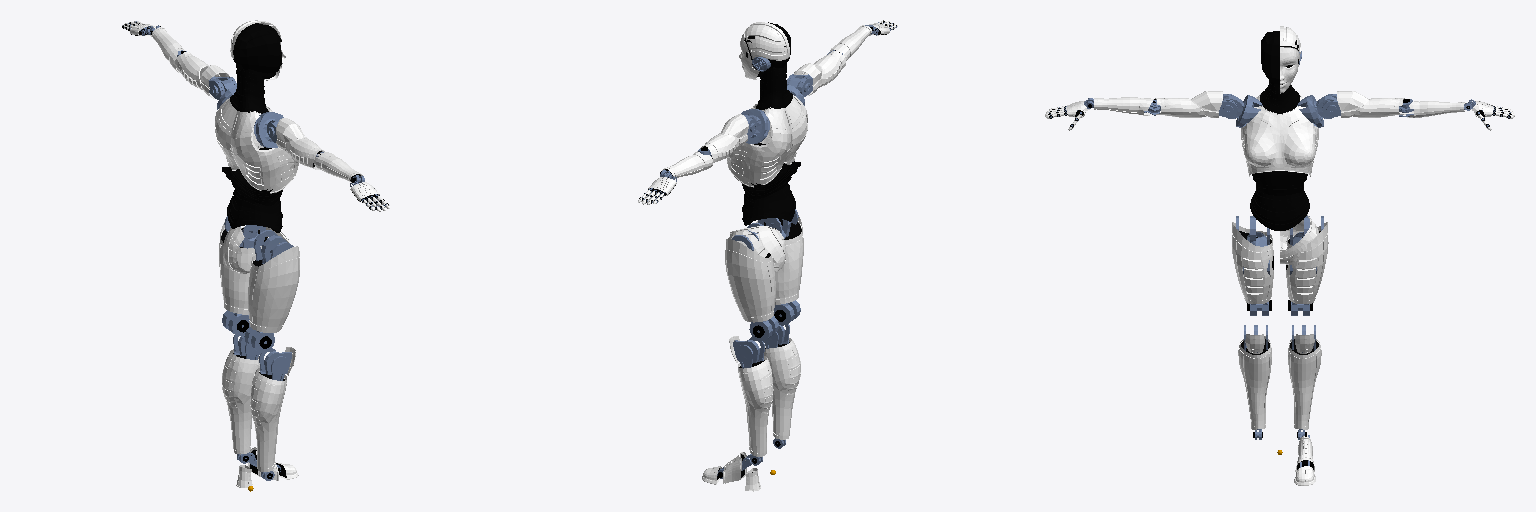
--- What the picture shows (computed from the rendered views, not written in the file) ---
The picture shows the robot from 3 angles, left to right: view 1: azimuth 30°, elevation 25°; view 2: azimuth 150°, elevation 25°; view 3: azimuth 270°, elevation 25°; orthographic projection.
Model humanMeshed with 90 links and 89 joints (89 continuous), rooted at base_link, posed every joint at zero.
Visible links, largest first — view 1: right_thigh_yaw, chest_yaw, right_knee_yaw, left_knee_yaw, left_thigh_yaw, head_yaw, lower_spine_yaw, left_shoulder_yaw, right_shoulder_yaw, neck_yaw, left_foot_yaw, hip_yaw (+4 smaller); view 2: left_thigh_yaw, chest_yaw, left_knee_yaw, right_knee_yaw, right_thigh_yaw, head_yaw, lower_spine_yaw, left_shoulder_yaw, right_shoulder_yaw, hip_yaw, left_foot_yaw, neck_yaw (+4 smaller); view 3: chest_yaw, lower_spine_yaw, right_thigh_yaw, left_thigh_yaw, right_knee_yaw, left_knee_yaw, head_yaw, left_shoulder_yaw, right_shoulder_yaw, hip_yaw, right_elbow_yaw, neck_yaw (+6 smaller).
Link boxes in pixels (x1,y1,x2,y2): right_thigh_yaw: [244, 230, 299, 352]; chest_yaw: [215, 98, 298, 193]; right_knee_yaw: [250, 347, 295, 480]; left_knee_yaw: [222, 335, 260, 463]; left_thigh_yaw: [219, 216, 268, 336]; head_yaw: [230, 20, 285, 80]; lower_spine_yaw: [222, 147, 282, 232]; left_shoulder_yaw: [175, 50, 236, 99]; right_shoulder_yaw: [267, 118, 324, 169]; neck_yaw: [230, 64, 268, 113]; left_foot_yaw: [236, 447, 298, 487]; hip_yaw: [223, 225, 288, 273]; left_thigh_yaw: [725, 223, 778, 341]; chest_yaw: [727, 95, 807, 187]; left_knee_yaw: [729, 336, 773, 465]; right_knee_yaw: [763, 324, 800, 448]; right_thigh_yaw: [756, 209, 803, 325]; head_yaw: [739, 22, 790, 79]; lower_spine_yaw: [742, 143, 800, 225]; left_shoulder_yaw: [698, 114, 756, 162]; right_shoulder_yaw: [787, 50, 845, 96]; hip_yaw: [729, 223, 786, 271]; left_foot_yaw: [702, 452, 760, 491]; neck_yaw: [756, 63, 792, 109]; chest_yaw: [1241, 94, 1318, 176]; lower_spine_yaw: [1250, 171, 1309, 230]; right_thigh_yaw: [1232, 216, 1273, 315]; left_thigh_yaw: [1286, 216, 1328, 315]; right_knee_yaw: [1238, 325, 1271, 439]; left_knee_yaw: [1288, 325, 1321, 439]; head_yaw: [1261, 26, 1301, 93]; left_shoulder_yaw: [1322, 91, 1412, 117]; right_shoulder_yaw: [1148, 91, 1237, 117]; hip_yaw: [1243, 214, 1318, 274]; right_elbow_yaw: [1087, 97, 1159, 115]; neck_yaw: [1260, 81, 1299, 113].
Bounding box of the posed robot: 0.3296 × 1.78 × 1.8 m (x, y, z).
Meshes: 19 distinct files referenced, 18 mesh visuals loaded (18 Collada DAE); not drawn: 1 (file found but could not be loaded).

The robot description file, URDF, robot "humanMeshed":
<?xml version="1.0"?>
<robot name="humanMeshed">

<link name="base_link">
    <visual>
      <geometry>
        <sphere radius="0.01"/>
      </geometry>
    </visual>
  </link>

<!--   HIP starts here  -->
  <link name="hip_roll"/>

  <joint name="odom" type="continuous">
    <parent link="base_link" />
    <child link="odom" />
    <origin xyz="0.05 0 0.90"/>
    <axis xyz="1.0 0 0"/>
  </joint>

  <link name="odom"/>

  <joint name="hip_roll" type="continuous">
    <parent link="odom" />
    <child link="hip_roll" />
    <origin xyz="0 0 0"/>
    <axis xyz="1.0 0 0"/>
  </joint>

  <link name="hip_pitch">
    
  </link>

  <joint name="hip_pitch" type="continuous">
    <parent link="hip_roll"/>
    <child link="hip_pitch"/>
    <origin xyz="0 0 0"/>
    <axis xyz="0 1.0 0"/>
  </joint>

  <link name="hip_yaw">
        <visual>
      <geometry>  
        <mesh filename="package://online_tempo/models/humanMeshed/meshes/pelvis.dae" scale="0.06 0.06 0.06"/>
     </geometry>
      <origin rpy="0 0 1.57075" xyz="0 0 -0.96"/>   
    </visual>
  </link>

  <joint name="hip_yaw" type="continuous">
    <parent link="hip_pitch"/>
    <child link="hip_yaw"/>
    <origin xyz="0 0 0"/>
    <axis xyz="0 0 1.0"/>
  </joint>

 <!--           HIP ENDS HERE        -->
 <!--      RIGHT THIGH STARTS HERE    -->
 <joint name="right_thigh_roll" type="continuous">
    <parent link="hip_yaw"/>
    <child link="right_thigh_roll"/>
    <origin xyz="-0.008278 -0.100432  0.042441  "/>
    <axis xyz="1.0 0 0"/>
 </joint>

 <link name="right_thigh_roll"/>

 <joint name="right_thigh_pitch" type="continuous">
    <parent link="right_thigh_roll"/>
    <child link="right_thigh_pitch"/>
    <origin xyz="0 0 0"/>
    <axis xyz="0 1.0 0"/>
 </joint>

 <link name="right_thigh_pitch"/>

 <joint name="right_thigh_yaw" type="continuous">
    <parent link="right_thigh_pitch"/>
    <child link="right_thigh_yaw"/>
    <origin xyz="0 0 0"/>
    <axis xyz="0 0 1.0"/>
 </joint>

<link name="right_thigh_yaw">
  <visual>
    <geometry>
      <mesh filename="package://online_tempo/models/humanMeshed/meshes/rightThigh.dae" scale="0.06 0.06 0.06"/>
    </geometry>      
    <origin rpy="0 0 1.57075" xyz="0 0.0875 -0.8725"/>  
  </visual>
</link>
<!--       RIGHT THIGH ENDS HERE       -->
<!--       RIGHT KNEE STARTS HERE      -->
<joint name="right_knee_roll" type="continuous">
  <parent link="right_thigh_yaw"/>
  <child link="right_knee_roll"/>
  <origin xyz="0 0.008037 -0.436842"/>
  <axis xyz="1.0 0 0"/>
</joint>

<link name="right_knee_roll"/>

<joint name="right_knee_pitch" type="continuous">
  <parent link="right_knee_roll"/>
  <child link="right_knee_pitch"/>
  <origin xyz="0 0 0"/>
  <axis xyz="0 1.0 0"/>
</joint>

<link name="right_knee_pitch"/>

<joint name="right_knee_yaw" type="continuous">
  <parent link="right_knee_pitch"/>
  <child link="right_knee_yaw"/>
  <origin xyz="0 0 0"/>
  <axis xyz="0 0 1.0"/>
</joint>

<link name="right_knee_yaw">
  <visual>
    <geometry>
      <mesh filename="package://online_tempo/models/humanMeshed/meshes/rightShin.dae" scale="0.06 0.06 0.06"/>
    </geometry>      
    <origin rpy="0 0 1.57075" xyz="0.05 0.0675 -0.53"/>    
  </visual>
</link>
<!--         RIGHT KNEE ENDS HERE   -->
<!--         RIGHT FOOT STARTS HERE -->
<joint name="right_foot_roll" type="continuous">
  <parent link="right_knee_yaw"/>
  <child link="right_foot_roll"/>
  <origin xyz="0.0000 0.0000 -0.428949  "/>
  <axis xyz="1.0 0 0"/>
</joint> 

<link name="right_foot_roll"/>

<joint name="right_foot_pitch" type="continuous">
  <parent link="right_foot_roll"/>
  <child link="right_foot_pitch"/>
  <origin xyz="0 0 0"/>
  <axis xyz="0 1.0 0"/>
</joint> 

<link name="right_foot_pitch"/>

<joint name="right_foot_yaw" type="continuous">
  <parent link="right_foot_pitch"/>
  <child link="right_foot_yaw"/>
  <origin xyz="0 0 0"/>
  <axis xyz="0 0 1.0"/>
</joint> 

<link name="right_foot_yaw">
  <visual>
    <geometry>
      <mesh filename="package://online_tempo/models/humanMeshed/meshes/rightFoot.dae" scale="0.06 0.06 0.06"/>
    </geometry>
    <origin rpy="0 0 1.57075" xyz="0.07375 0.055 -0.1075"/>    
   </visual>
 </link>

<!--   RIGHT FOOT ENDS HERE   -->
<joint name="right_toe_roll" type="continuous">
  <parent link="right_foot_yaw"/>
  <child link="right_toe_roll"/>
  <origin xyz="0.098587 0.0000 -0.047145 "/>
  <axis xyz="1.0 0 0"/>
</joint>

<link name="right_toe_roll"/>

<joint name="right_toe_pitch" type="continuous">
  <parent link="right_toe_roll"/>
  <child link="right_toe_pitch"/>
  <origin xyz="0 0 0"/>
  <axis xyz="0 1.0 0"/>
</joint>

<link name="right_toe_pitch"/>

<joint name="right_toe_yaw" type="continuous">
  <parent link="right_toe_pitch"/>
  <child link="right_toe_yaw"/>
  <origin xyz="0 0 0"/>
  <axis xyz="0 0 1.0"/>
</joint>

<link name="right_toe_yaw"/>


<!--   LEFT THIGH STARTS HERE -->
 <joint name="left_thigh_roll" type="continuous">
    <parent link="hip_yaw"/>
    <child link="left_thigh_roll"/>
    
    <origin xyz="-0.008278 0.100433 0.042438  "/>
    <axis xyz="1.0 0 0"/>
 </joint>



 <link name="left_thigh_roll"/>

 <joint name="left_thigh_pitch" type="continuous">
    <parent link="left_thigh_roll"/>
    <child link="left_thigh_pitch"/>
    <origin xyz="0 0 0"/>
    <axis xyz="0 1.0 0"/>
 </joint>

 <link name="left_thigh_pitch"/>

 <joint name="left_thigh_yaw" type="continuous">
    <parent link="left_thigh_pitch"/>
    <child link="left_thigh_yaw"/>
    <origin xyz="0 0 0"/>
    <axis xyz="0 0 1.0"/>
 </joint>

<link name="left_thigh_yaw">
  <visual>
    <geometry>
      <mesh filename="package://online_tempo/models/humanMeshed/meshes/leftThigh.dae" scale="0.06 0.06 0.06"/>
    </geometry>      
    <origin rpy="0 0 1.57075" xyz="0 -0.0875 -0.8725"/>    
  </visual>
</link>
<!--     LEFT THIGH ENDS HERE -->
<!--       LEFT KNEE STARTS HERE      -->
<joint name="left_knee_roll" type="continuous">
  <parent link="left_thigh_yaw"/>
  <child link="left_knee_roll"/>
  <origin xyz="0 -0.008037 -0.436838 "/>

  <axis xyz="1.0 0 0"/>
</joint>

<link name="left_knee_roll"/>

<joint name="left_knee_pitch" type="continuous">
  <parent link="left_knee_roll"/>
  <child link="left_knee_pitch"/>
  <origin xyz="0 0 0"/>
  <axis xyz="0 1.0 0"/>
</joint>

<link name="left_knee_pitch"/>

<joint name="left_knee_yaw" type="continuous">
  <parent link="left_knee_pitch"/>
  <child link="left_knee_yaw"/>
  <origin xyz="0 0 0"/>
  <axis xyz="0 0 1.0"/>
</joint>

<link name="left_knee_yaw">
  <visual>
    <geometry>
      <mesh filename="package://online_tempo/models/humanMeshed/meshes/leftShin.dae" scale="0.06 0.06 0.06"/>
    </geometry>      
    <origin rpy="0 0 1.57075" xyz="0.05 -0.0675 -0.53"/>   
  </visual>
</link>
<!--         left KNEE ENDS HERE   -->
<!--         left FOOT STARTS HERE -->
<joint name="left_foot_roll" type="continuous">
  <parent link="left_knee_yaw"/>
  <child link="left_foot_roll"/>
  
  <origin xyz="0 0.0000 -0.428949  "/>
  <axis xyz="1.0 0 0"/>
</joint> 

<link name="left_foot_roll"/>

<joint name="left_foot_pitch" type="continuous">
  <parent link="left_foot_roll"/>
  <child link="left_foot_pitch"/>
  <origin xyz="0 0 0"/>
  <axis xyz="0 1.0 0"/>
</joint> 

<link name="left_foot_pitch"/>

<joint name="left_foot_yaw" type="continuous">
  <parent link="left_foot_pitch"/>
  <child link="left_foot_yaw"/>
  <origin xyz="0 0 0"/>
  <axis xyz="0 0 1.0"/>
</joint> 

<link name="left_foot_yaw">
  <visual>
    <geometry>
      <mesh filename="package://online_tempo/models/humanMeshed/meshes/leftFoot.dae" scale="0.06 0.06 0.06"/>
    </geometry>
    <origin rpy="0 0 1.57075" xyz="0.07375 -0.055 -0.1075"/>    
   </visual>
</link>
<!--   left FOOT ENDS HERE   -->

<joint name="left_toe_roll" type="continuous">
  <parent link="left_foot_yaw"/>
  <child link="left_toe_roll"/>
  <origin xyz="0.098587 0.0000 -0.047145 "/>
  <axis xyz="1.0 0 0"/>
</joint>

<link name="left_toe_roll"/>

<joint name="left_toe_pitch" type="continuous">
  <parent link="left_toe_roll"/>
  <child link="left_toe_pitch"/>
  <origin xyz="0 0 0"/>
  <axis xyz="0 1.0 0"/>
</joint>

<link name="left_toe_pitch"/>

<joint name="left_toe_yaw" type="continuous">
  <parent link="left_toe_pitch"/>
  <child link="left_toe_yaw"/>
  <origin xyz="0 0 0"/>
  <axis xyz="0 0 1.0"/>
</joint>

<link name="left_toe_yaw"/>



<!--   lower_spine STARTS HERE   -->
<joint name="lower_spine_roll" type="continuous">
  <parent link="hip_yaw"/>
  <child link="lower_spine_roll"/>
  <origin xyz="-0.050805 0.0000 0.093885  "/>
  <axis xyz="1.0 0 0"/>
</joint>

<link name="lower_spine_roll"/>

<joint name="lower_spine_pitch" type="continuous">
  <parent link="lower_spine_roll"/>
  <child link="lower_spine_pitch"/>
  <origin xyz="0 0 0"/>
  <axis xyz="0 1.0 0"/>
</joint>

<link name="lower_spine_pitch"/>

<joint name="lower_spine_yaw" type="continuous">
  <parent link="lower_spine_pitch"/>
  <child link="lower_spine_yaw"/>
  <origin xyz="0 0 0"/>
  <axis xyz="0 0 1.0"/>
</joint>


<link name="lower_spine_yaw">
  <visual>
    <geometry>
              <mesh filename="package://online_tempo/models/humanMeshed/meshes/abdomen.dae" scale="0.06 0.06 0.06"/>
    </geometry>
    <origin rpy="0 0 1.57075" xyz="-0.005 0 -1"/>    
  </visual>
</link>

<!--  lower_spine ENDS HERE     -->
<!--  middle_spine Starts here  -->
<joint name="middle_spine_roll" type="continuous">
  <parent link="lower_spine_yaw"/>
  <child link="middle_spine_roll"/>
  <origin xyz="0.004476 0.0000 0.085677  "/>
  <axis xyz="1.0 0 0"/>
</joint>

<link name="middle_spine_roll"/>

<joint name="middle_spine_pitch" type="continuous">
  <parent link="middle_spine_roll"/>
  <child link="middle_spine_pitch"/>
  <origin xyz="0 0 0"/>
  <axis xyz="0 1.0 0"/>
</joint>

<link name="middle_spine_pitch"/>

<joint name="middle_spine_yaw" type="continuous">
  <parent link="middle_spine_pitch"/>
  <child link="middle_spine_yaw"/>
  <origin xyz="0 0 0"/>
  <axis xyz="0 0 1.0"/>
</joint>

<link name="middle_spine_yaw">
  <!--
  <visual>
    <geometry>
        <box size="0.10 0.25 0.08"/>
    </geometry>
    <origin rpy="0 0 0" xyz="0 0 0.04"/>    
  </visual>
-->
</link>

<!--  middle_spine Ends here    -->
<!--  CHEST STARTS HERE     -->
<joint name="chest_roll" type="continuous">
  <parent link="middle_spine_yaw"/>
  <child link="chest_roll"/>
  <origin xyz="-0.023598 0.0000 0.106015 "/>
  <axis xyz="1.0 0 0"/>
</joint>

<link name="chest_roll"/>

<joint name="chest_pitch" type="continuous">
  <parent link="chest_roll"/>
  <child link="chest_pitch"/>
  <origin xyz="0 0 0"/>
  <axis xyz="0 1.0 0"/>
</joint>

<link name="chest_pitch"/>

<joint name="chest_yaw" type="continuous">
  <parent link="chest_pitch"/>
  <child link="chest_yaw"/>
  <origin xyz="0 0 0"/>
  <axis xyz="0 0 1.0"/>
</joint>

<link name="chest_yaw">
  <visual>
    <geometry>
      <mesh filename="package://online_tempo/models/humanMeshed/meshes/chest.dae" scale="0.06 0.06 0.06"/>
    </geometry>
    <origin rpy="0 0 1.57075" xyz="0.05 0 -1.2"/>    
  </visual>
</link>
<!--     Chest ends here            -->
<!--     left clavicle starts here  -->
<joint name="left_clavicle_roll" type="continuous">
  <parent link="chest_yaw"/>
  <child link="left_clavicle_roll"/>
  <origin xyz="0.078988 0.024119 0.230552 "/>
  <axis xyz="1.0 0 0"/>
</joint>

<link name="left_clavicle_roll"/>

<joint name="left_clavicle_pitch" type="continuous">
  <parent link="left_clavicle_roll"/>
  <child link="left_clavicle_pitch"/>
  <origin xyz="0 0 0"/>
  <axis xyz="0 1.0 0"/>
</joint>

<link name="left_clavicle_pitch"/>

<joint name="left_clavicle_yaw" type="continuous">
  <parent link="left_clavicle_pitch"/>
  <child link="left_clavicle_yaw"/>
  <origin xyz="0 0 0"/>
  <axis xyz="0 0 1.0"/>
</joint>

<link name="left_clavicle_yaw">
  <visual>
    <geometry>
    <mesh filename="package://online_tempo/models/humanMeshed/meshes/leftClavicle.dae" scale="0.06 0.06 0.06"/>
    </geometry>
    <origin rpy="0 0 1.57075" xyz="-0.01 0 -1.4"/>
  </visual>
</link>
<!-- left clavicle ends here   -->
<!-- left shoulder starts here -->
<joint name="left_shoulder_roll" type="continuous">
  <parent link="left_clavicle_yaw"/>
  <child link="left_shoulder_roll"/>
  <origin xyz="-0.053510 0.140907  0.033069  "/>
  <axis xyz="1.0 0 0"/>
</joint>

<link name="left_shoulder_roll"/>

<joint name="left_shoulder_pitch" type="continuous">
  <parent link="left_shoulder_roll"/>
  <child link="left_shoulder_pitch"/>
  <origin xyz="0 0 0"/>
  <axis xyz="0 1.0 0"/>
</joint>

<link name="left_shoulder_pitch"/>

<joint name="left_shoulder_yaw" type="continuous">
  <parent link="left_shoulder_pitch"/>
  <child link="left_shoulder_yaw"/>
  <origin xyz="0 0 0"/>
  <axis xyz="0 0 1.0"/>
</joint>

<link name="left_shoulder_yaw">
  <visual>
    <geometry>
      <mesh filename="package://online_tempo/models/humanMeshed/meshes/leftBicep.dae" scale="0.07 0.06 0.06"/> 
    </geometry>
    <!--
    <origin rpy="0 0 1.57075 " xyz="0.04 -0.16 -1.42" />
    -->
    <origin rpy="0 -0.356 1.57075 " xyz="0.045 0.35 -1.40" />
  </visual>
</link>
<!-- left shoulder ends here -->
<!-- left elbow starts here -->
<joint name="left_elbow_roll" type="continuous">
  <parent link="left_shoulder_yaw"/>
  <child link="left_elbow_roll"/>
  <origin xyz="-0.002594 0.299313  -0.001061 "/>
  <axis xyz="1.0 0 0"/>
</joint>

<link name="left_elbow_roll"/>

<joint name="left_elbow_pitch" type="continuous">
  <parent link="left_elbow_roll"/>
  <child link="left_elbow_pitch"/>
  <origin xyz="0 0 0"/>
  <axis xyz="0 1.0 0"/>
</joint>

<link name="left_elbow_pitch"/>

<joint name="left_elbow_yaw" type="continuous">
  <parent link="left_elbow_pitch"/>
  <child link="left_elbow_yaw"/>
  <origin xyz="0 0 0"/>
  <axis xyz="0 0 1.0"/>
</joint>

<link name="left_elbow_yaw">
  <visual>
    <geometry>
      <mesh filename="package://online_tempo/models/humanMeshed/meshes/leftForearm.dae" scale="0.062 0.06 0.06"/> 
    </geometry>
    <!--
    <origin rpy="0 0 1.57075 " xyz="0.04 -0.4 -1.322" />
    -->
    <origin rpy="-0.27 -0.20 1.74 " xyz="0.42 -0.07 -1.336" />

  </visual>
</link>
<!-- left elbow ends here   -->
<!-- left hand starts here  -->
<joint name="left_hand_roll" type="continuous">
  <parent link="left_elbow_yaw"/>
  <child link="left_hand_roll"/>
  <origin xyz="-0.001496 0.249691  0.000724  "/>
  <axis xyz="1.0 0 0"/>
</joint>

<link name="left_hand_roll"/>

<joint name="left_hand_pitch" type="continuous">
  <parent link="left_hand_roll"/>
  <child link="left_hand_pitch"/>
  <origin xyz="0 0 0"/>
  <axis xyz="0 1.0 0"/>
</joint>

<link name="left_hand_pitch"/>

<joint name="left_hand_yaw" type="continuous">
  <parent link="left_hand_pitch"/>
  <child link="left_hand_yaw"/>
  <origin xyz="0 0 0"/>
  <axis xyz="0 0 1.0"/>
</joint>

<link name="left_hand_yaw">
  <visual>
    <geometry>
      <mesh filename="package://online_tempo/models/humanMeshed/meshes/leftHand.dae" scale="0.06 0.06 0.06"/> 
    </geometry>
    <origin rpy="0 0 1.57075 " xyz="-0.0075 -0.61 -1.28" />
  </visual>
</link>
<!-- left hand ends here    -->

<joint name="right_clavicle_roll" type="continuous">
  <parent link="chest_yaw"/>
  <child link="right_clavicle_roll"/>
  <origin xyz="0.078988 -0.024119  0.230552 "/>
  <axis xyz="1.0 0 0"/>
</joint>

<link name="right_clavicle_roll"/>

<joint name="right_clavicle_pitch" type="continuous">
  <parent link="right_clavicle_roll"/>
  <child link="right_clavicle_pitch"/>
  <origin xyz="0 0 0"/>
  <axis xyz="0 1.0 0"/>
</joint>

<link name="right_clavicle_pitch"/>

<joint name="right_clavicle_yaw" type="continuous">
  <parent link="right_clavicle_pitch"/>
  <child link="right_clavicle_yaw"/>
  <origin xyz="0 0 0"/>
  <axis xyz="0 0 1.0"/>
</joint>

<link name="right_clavicle_yaw">
  <visual>
    <geometry>
    <mesh filename="package://online_tempo/models/humanMeshed/meshes/rightClavicle.dae" scale="0.06 0.06 0.06"/>
    </geometry>
    <origin rpy="0 0 1.57075" xyz="-0.01 0 -1.4"/>
  </visual>
</link>
<!-- right clavicle ends here   -->
<!-- right shoulder starts here -->
<joint name="right_shoulder_roll" type="continuous">
  <parent link="right_clavicle_yaw"/>
  <child link="right_shoulder_roll"/>
  <origin xyz="-0.053519 -0.140932 0.033075  "/>
  <axis xyz="1.0 0 0"/>
</joint>

<link name="right_shoulder_roll"/>

<joint name="right_shoulder_pitch" type="continuous">
  <parent link="right_shoulder_roll"/>
  <child link="right_shoulder_pitch"/>
  <origin xyz="0 0 0"/>
  <axis xyz="0 1.0 0"/>
</joint>

<link name="right_shoulder_pitch"/>

<joint name="right_shoulder_yaw" type="continuous">
  <parent link="right_shoulder_pitch"/>
  <child link="right_shoulder_yaw"/>
  <origin xyz="0 0 0"/>
  <axis xyz="0 0 1.0"/>
</joint>

<link name="right_shoulder_yaw">
  <visual>
    <geometry>
      <mesh filename="package://online_tempo/models/humanMeshed/meshes/rightBicep.dae" scale="0.07 0.06 0.06"/> 
    </geometry>
    <!--
    <origin rpy="0 0  1.57075 " xyz="0.045 0.165 -1.42" />
    -->
    <origin rpy="0 0.356 1.57075 " xyz="0.045 -0.35 -1.40" />
    <!--
    -->
  </visual>
</link>
<!-- right shoulder ends here -->
<!-- right elbow starts here -->
<joint name="right_elbow_roll" type="continuous">
  <parent link="right_shoulder_yaw"/>
  <child link="right_elbow_roll"/>
  <origin xyz="-0.002594 -0.299313 -0.001061 "/>
  <axis xyz="1.0 0 0"/>
</joint>

<link name="right_elbow_roll"/>

<joint name="right_elbow_pitch" type="continuous">
  <parent link="right_elbow_roll"/>
  <child link="right_elbow_pitch"/>
  <origin xyz="0 0 0"/>
  <axis xyz="0 1.0 0"/>
</joint>

<link name="right_elbow_pitch"/>

<joint name="right_elbow_yaw" type="continuous">
  <parent link="right_elbow_pitch"/>
  <child link="right_elbow_yaw"/>
  <origin xyz="0 0 0"/>
  <axis xyz="0 0 1.0"/>
</joint>

<link name="right_elbow_yaw">
  <visual>
    <geometry>
      <mesh filename="package://online_tempo/models/humanMeshed/meshes/rightForearm.dae" scale="0.062 0.06 0.06"/> 
    </geometry>
    <origin rpy="0.27 0.30 1.40 " xyz="-0.29 0.05 -1.352" />
  </visual>
</link>
<!-- right elbow ends here   -->
<!-- right hand starts here  -->
<joint name="right_hand_roll" type="continuous">
  <parent link="right_elbow_yaw"/>
  <child link="right_hand_roll"/>
  <origin xyz="-0.001496 -0.249691 0.000724  "/>
  <axis xyz="1.0 0 0"/>
</joint>

<link name="right_hand_roll"/>

<joint name="right_hand_pitch" type="continuous">
  <parent link="right_hand_roll"/>
  <child link="right_hand_pitch"/>
  <origin xyz="0 0 0"/>
  <axis xyz="0 1.0 0"/>
</joint>

<link name="right_hand_pitch"/>

<joint name="right_hand_yaw" type="continuous">
  <parent link="right_hand_pitch"/>
  <child link="right_hand_yaw"/>
  <origin xyz="0 0 0"/>
  <axis xyz="0 0 1.0"/>
</joint>

<link name="right_hand_yaw">
  <visual>
    <geometry>
      <mesh filename="package://online_tempo/models/humanMeshed/meshes/rightHand.dae" scale="0.06 0.06 0.06"/> 
    </geometry>
    <origin rpy="0 0 1.57075 " xyz="-0.0075 0.61 -1.28" />
  </visual>
</link>
<!-- right hand ends here    -->

<!-- neck starts here   -->
<joint name="neck_roll" type="continuous">
  <parent link="chest_yaw"/>
  <child link="neck_roll"/>
  <origin xyz="0 0 0.25"/>
  <axis xyz="1.0 0 0"/>
</joint>

<link name="neck_roll"/>

<joint name="neck_pitch" type="continuous">
  <parent link="neck_roll"/>
  <child link="neck_pitch"/>
  <origin xyz="0 0 0"/>
  <axis xyz="0 1.0 0"/>
</joint>

<link name="neck_pitch"/>

<joint name="neck_yaw" type="continuous">
  <parent link="neck_pitch"/>
  <child link="neck_yaw"/>
  <origin xyz="0 0 0"/>
  <axis xyz="0 0 1.0"/>
</joint>

<link name="neck_yaw">
  <visual>
    <geometry>
      <mesh filename="package://online_tempo/models/humanMeshed/meshes/neck.dae" scale="0.06 0.06 0.06"/> 
    </geometry>
    <origin rpy="0 0 1.57075 " xyz="0.0425 0 -1.45" />
  </visual>
</link>
<!-- neck ends here -->
<!-- head starts here -->
<joint name="head_roll" type="continuous">
  <parent link="neck_yaw"/>
  <child link="head_roll"/>
  <origin xyz="0 0 0.10"/>
  <axis xyz="1.0 0 0"/>
</joint>

<link name="head_roll"/>

<joint name="head_pitch" type="continuous">
  <parent link="head_roll"/>
  <child link="head_pitch"/>
  <origin xyz="0 0 0"/>
  <axis xyz="0 1.0 0"/>
</joint>

<link name="head_pitch"/>

<joint name="head_yaw" type="continuous">
  <parent link="head_pitch"/>
  <child link="head_yaw"/>
  <origin xyz="0 0 0"/>
  <axis xyz="0 0 1.0"/>
</joint>

<link name="head_yaw">
  <visual>
    <geometry>
      <mesh filename="package://online_tempo/models/humanMeshed/meshes/head.dae" scale="0.06 0.06 0.06"/> 
    </geometry>
    <origin rpy="0 0 1.57075 " xyz="0.0425 0 -1.53" />
  </visual>
</link>





<link name="hip">
    
  </link>

  <link name="lower_spine"/>
  <joint name="hip_to_lower_spine" type="continuous">
    <parent link="hip"/>
    <child link="lower_spine"/>
  </joint> 

  <link name="middle_spine"/>
  <joint name="lower_spine_to_middle_spine" type="continuous">
    <parent link="lower_spine"/>
    <child link="middle_spine"/>
  </joint> 

  <link name="chest"/>  
  <joint name="middle_spine_to_chest" type="continuous">
    <parent link="middle_spine"/>
    <child link="chest"/>
  </joint> 

  <link name="neck"/>  
  <joint name="chest_to_neck" type="continuous">
    <parent link="chest"/>
    <child link="neck"/>
  </joint> 

 <link name="head"/>  
  <joint name="neck_to_head" type="continuous">
    <parent link="neck"/>
    <child link="head"/>
  </joint> 

 
<!-- -->
 <link name="left_clavicle"/>  
  <joint name="chest_to_left_clavicle" type="continuous">
    <parent link="chest"/>
    <child link="left_clavicle"/>
  </joint> 
  
 <link name="left_shoulder"/>  
  <joint name="left_clavicle_to_left_shoulder" type="continuous">
    <parent link="left_clavicle"/>
    <child link="left_shoulder"/>
  </joint> 
 
 <link name="left_forearm"/>  
  <joint name="left_shoulder_to_left_forearm" type="continuous">
    <parent link="left_shoulder"/>
    <child link="left_forearm"/>
  </joint>

 <link name="left_hand"/>  
  <joint name="left_forearm_to_left_hand" type="continuous">
    <parent link="left_forearm"/>
    <child link="left_hand"/>
  </joint>  
<!-- -->
 <link name="right_clavicle"/>  
  <joint name="chest_to_right_clavicle" type="continuous">
    <parent link="chest"/>
    <child link="right_clavicle"/>
  </joint> 
  
 <link name="right_shoulder"/>  
  <joint name="right_clavicle_to_right_shoulder" type="continuous">
    <parent link="right_clavicle"/>
    <child link="right_shoulder"/>
  </joint> 
 
 <link name="right_forearm"/>  
  <joint name="right_shoulder_to_right_forearm" type="continuous">
    <parent link="right_shoulder"/>
    <child link="right_forearm"/>
  </joint>

 <link name="right_hand"/>  
  <joint name="right_forearm_to_right_hand" type="continuous">
    <parent link="right_forearm"/>
    <child link="right_hand"/>
  </joint>

<!-- -->

<!-- start of right leg geometry-->
  <link name="right_tigh">
    
  </link>

  <link name="right_leg">
    
  </link>

  <link name="right_foot">
    
  </link>

 <link name="right_foot_toe"/> 


 <joint name="right_foot_to_right_foot_toe" type="continuous">
    <parent link="right_foot"/>
    <child link="right_foot_toe"/>
    <origin xyz="0 0 -0.45"/>
  </joint> 

 
  

<!-- end of right leg geometry -->
<!-- start of left leg geometry -->
  <link name="left_tigh">
   
  </link>

  <link name="left_leg">

  </link>

  <link name="left_foot">
    
  </link>

  <link name="left_foot_toe"/>

  <joint name="left_foot_to_left_foot_toe" type="continuous">
    <parent link="left_foot"/>
    <child link="left_foot_toe"/>
    <origin xyz="0 0 -0.45"/>
  </joint> 

  
  

  <!--link name="left_toe"/>
  <link name="left_toe_end"/-->
    
  
<!-- end of left leg geometry -->

<!-- start of abs -->


  <joint name="base_to_hip" type="continuous">
    <parent link="base_link" />
    <child link="hip" />
    <origin xyz="0 0 0.90"/>
  </joint>
  <!-- right leg joints -->
  
<joint name="hip_to_right_tigh" type="continuous">
  <parent link="hip"/>
    <child link="right_tigh"/>
    <origin xyz="0 -0.1 0"/>
  </joint>





  <joint name="right_tigh_to_right_leg" type="continuous">
    <parent link="right_tigh" />
    <child link="right_leg"/>
    <origin xyz="0 0 -0.45"/>
   </joint>   

  <joint name="right_leg_to_foot" type="continuous">
    <parent link="right_leg"/>
    <child link="right_foot"/>
    <origin xyz="0 0 -0.45"/>
  </joint> 



  <!-- left leg joints -->
   <joint name="hip_to_left_tigh" type="continuous">
    <parent link="hip"/>
    <child link="left_tigh"/>
    <origin xyz="0 0.1 0"/>
  </joint>

  <joint name="left_tigh_to_left_leg" type="continuous">
    <parent link="left_tigh" />
    <child link="left_leg"/>
    <origin xyz="0 0 -0.45"/>
   </joint>   

  <joint name="left_leg_to_foot" type="continuous">
    <parent link="left_leg"/>
    <child link="left_foot"/>
    <origin xyz="0 0 -0.45"/>
  </joint> 


</robot>
